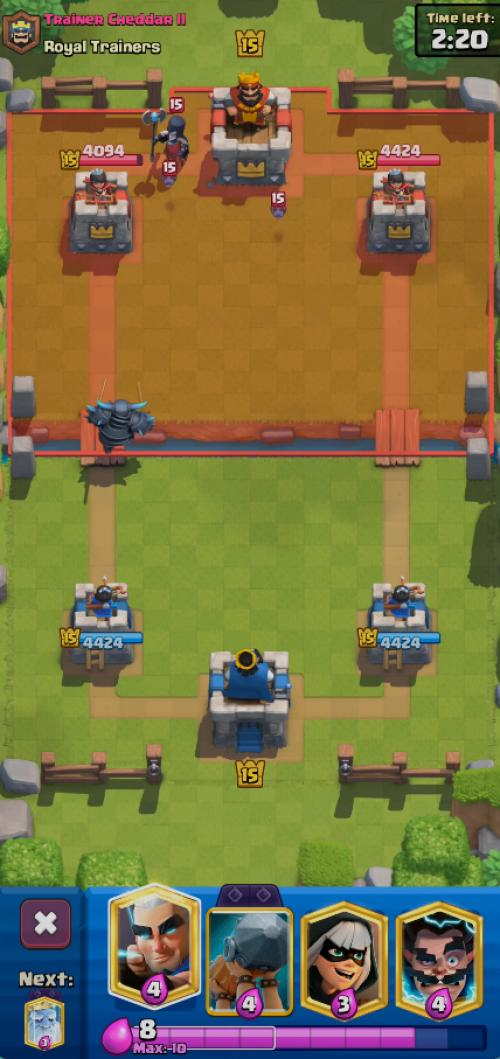Enemy-Bat: (271, 206, 285, 218), (163, 175, 175, 186)
Enemy-KingTower: (211, 74, 291, 187)
Enemy-NightWitch: (140, 106, 190, 169)
Enemy-PrincessTower: (69, 169, 133, 255), (367, 169, 430, 254)
